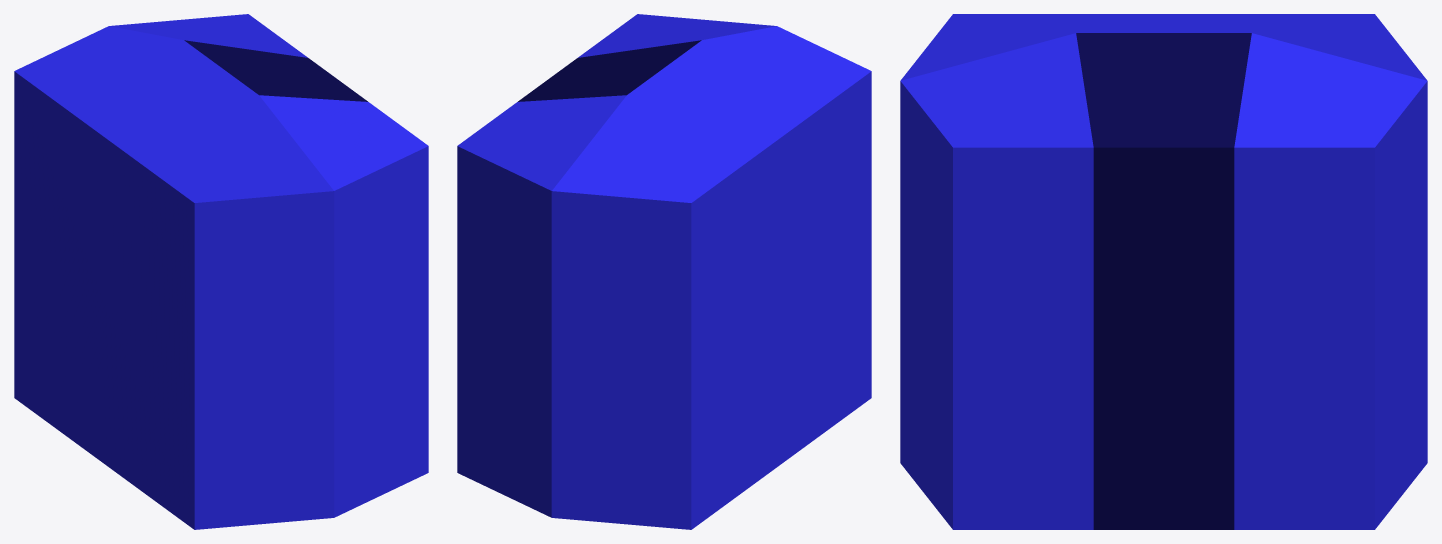
The model's file is Flitwick_hood.fbx.
3 renders of one model, left to right at view 1: azimuth 30°, elevation 25°; view 2: azimuth 150°, elevation 25°; view 3: azimuth 270°, elevation 25°, orthographic. The views are drawn at different scales.
Visible parts, largest first — view 1: Cube; view 2: Cube; view 3: Cube.
Boxes of the visible parts, x1,y1,x2,y2 form: Cube: [14, 14, 428, 529]; Cube: [457, 14, 871, 529]; Cube: [900, 14, 1427, 529].
Bounding box in the file's own units: 150 × 225 × 250.
